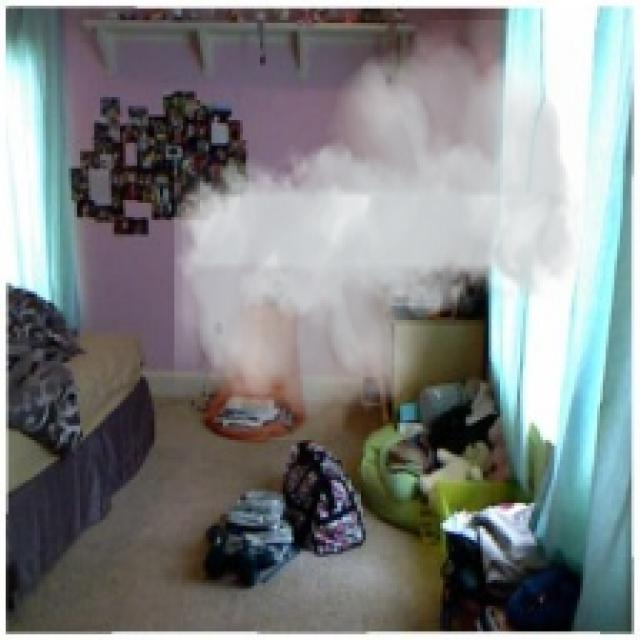smoke: (174, 20, 586, 440)
